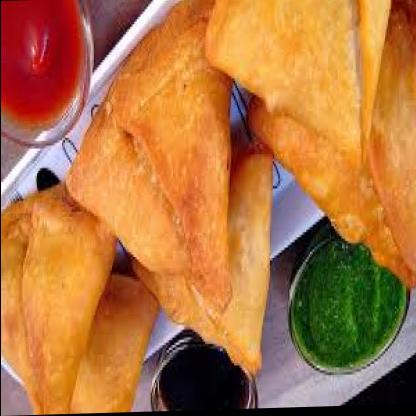samosa: (65, 0, 230, 318), (247, 0, 416, 293), (132, 140, 273, 378), (204, 0, 390, 169), (0, 181, 116, 416), (69, 269, 157, 414)
